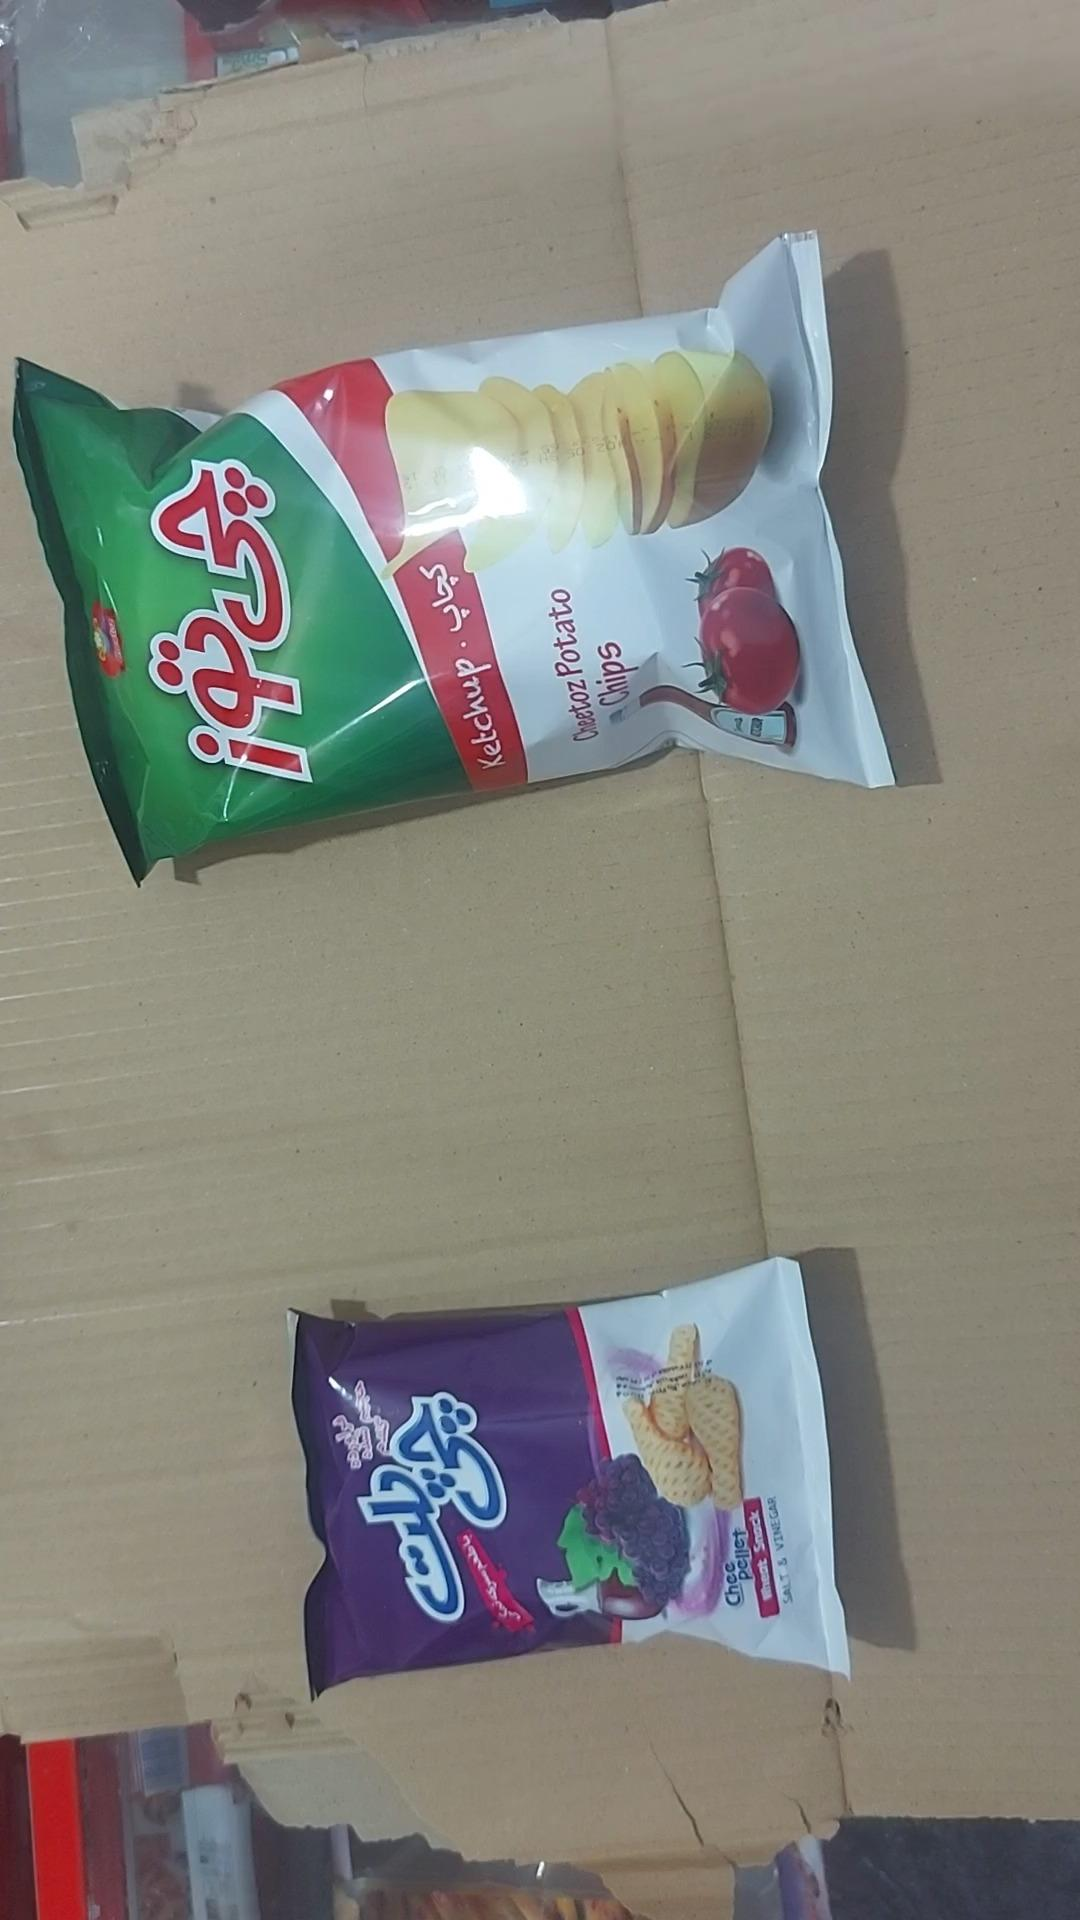Chee pellet vinegar: (291, 1261, 849, 1697)
Cheetoz ketchup chips: (15, 236, 893, 881)
